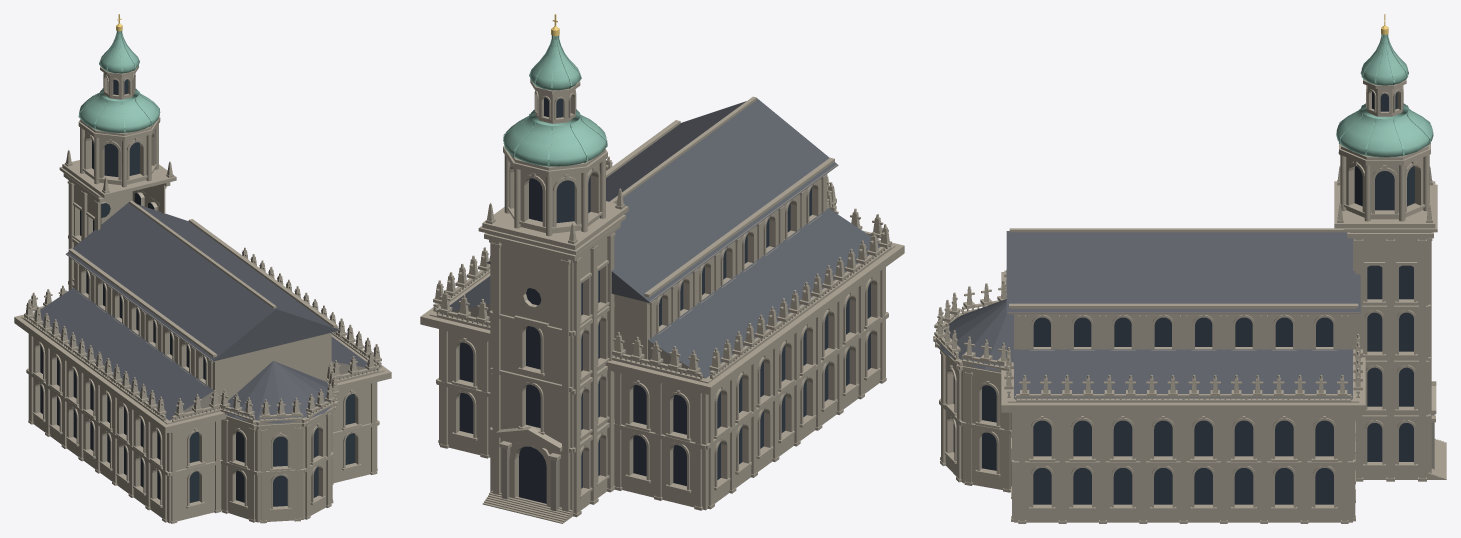
The model's file is hofkirche.glb.
3 renders of one model, left to right at view 1: azimuth 30°, elevation 25°; view 2: azimuth 150°, elevation 25°; view 3: azimuth 270°, elevation 25°, orthographic. The views are drawn at different scales.
Visible parts, largest first — view 1: hofkirche; view 2: hofkirche; view 3: hofkirche.
Part boxes in pixels (x1,y1,x2,y2): hofkirche: (14, 14, 391, 523); hofkirche: (420, 14, 904, 523); hofkirche: (933, 14, 1446, 523).
Bounding box in the file's own units: 54.4 × 85.2 × 88.59.
